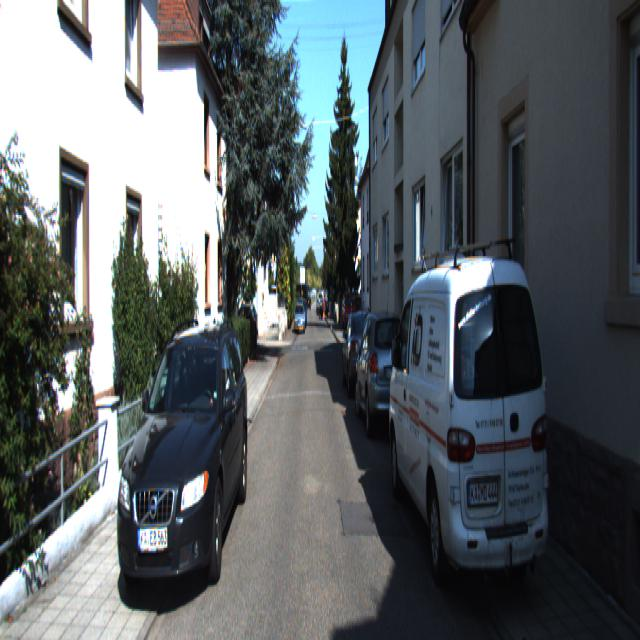Car: (388, 237, 557, 633), (114, 319, 250, 623), (354, 309, 409, 449), (341, 307, 380, 405), (342, 292, 357, 331)
